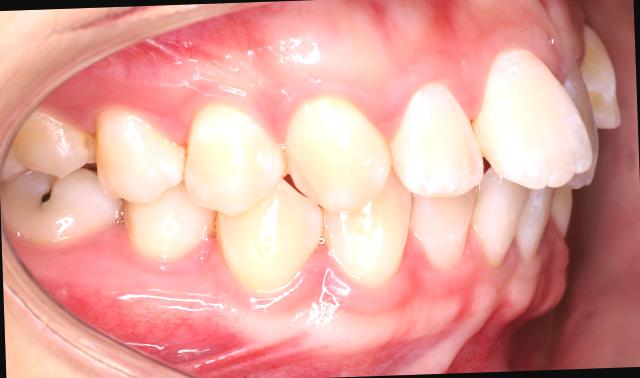canine class II 1/4: (206, 86, 418, 306)
molar class II 1/4: (0, 102, 120, 252)
